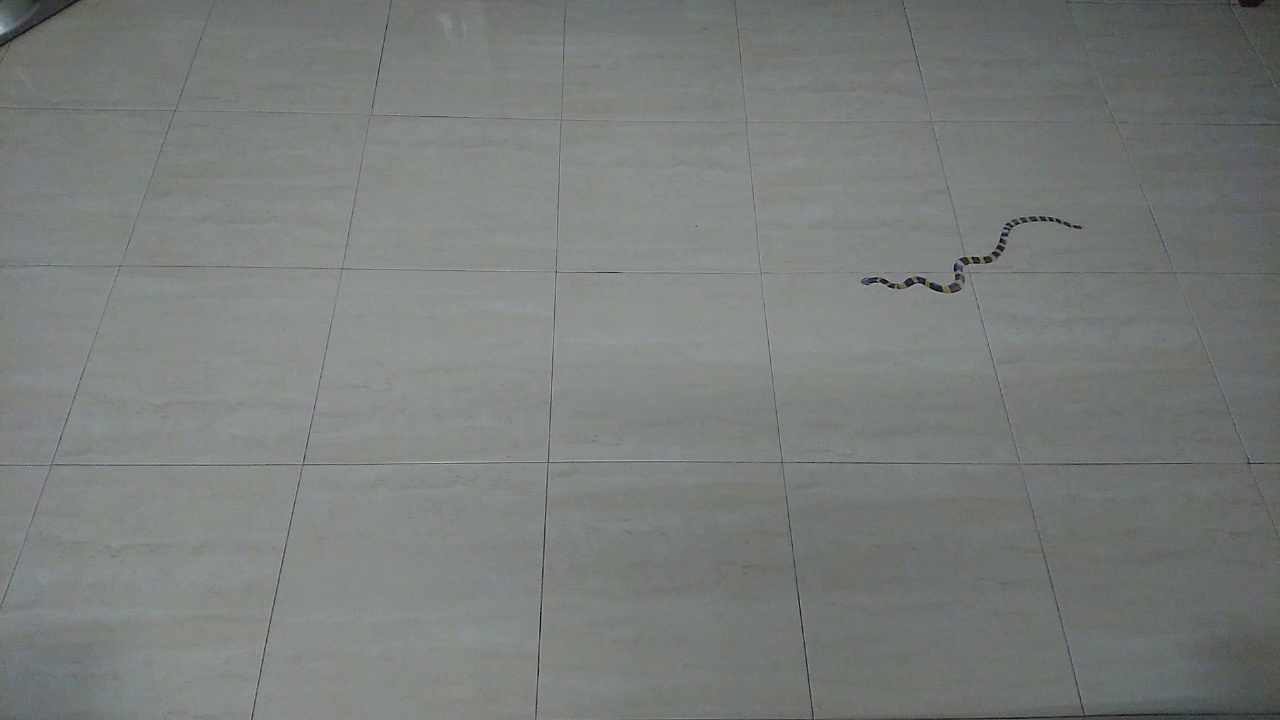snake: (852, 210, 1090, 302)
